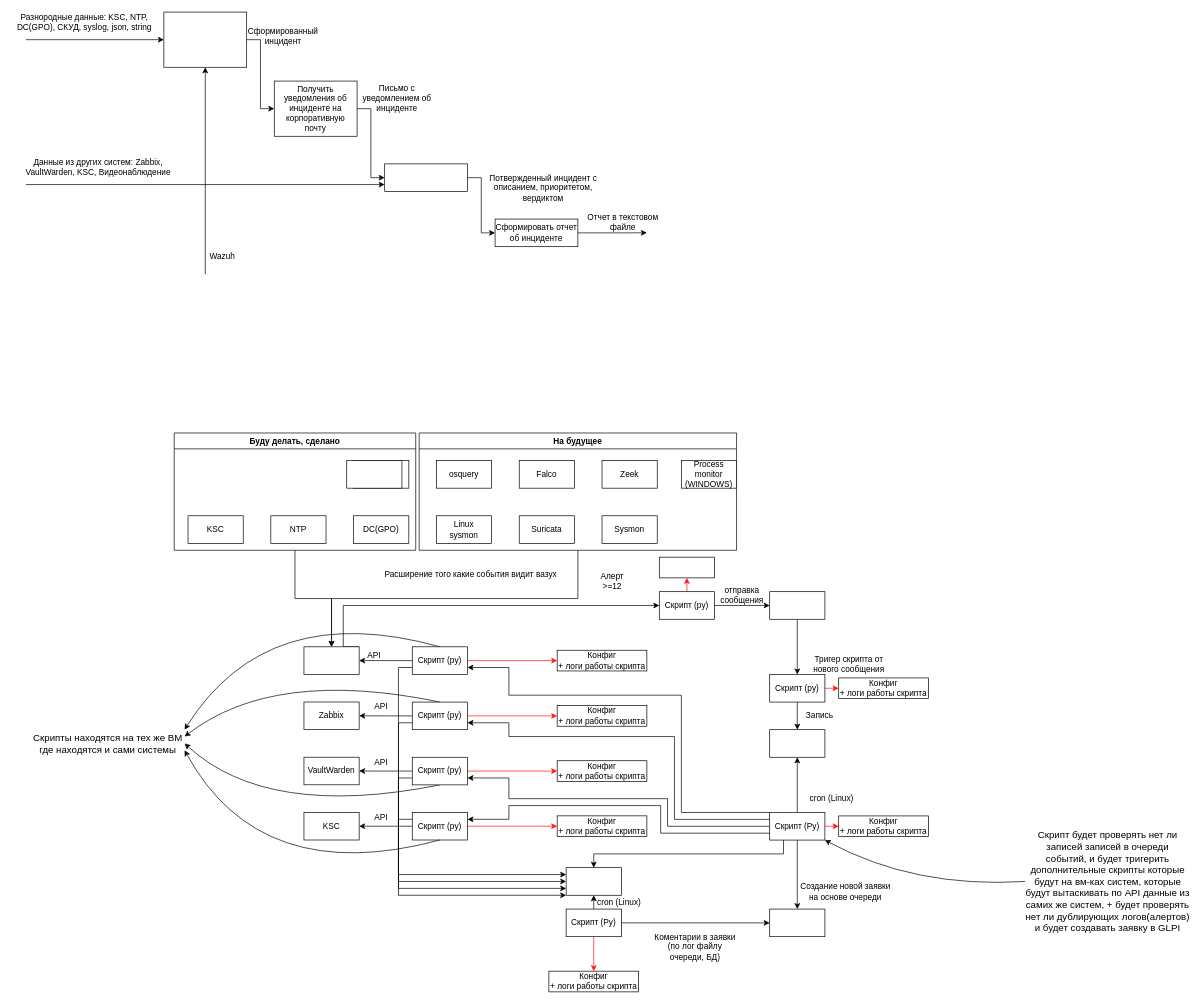
Some shapes in this 1202 by 1004 pixel diagram are drawn without their labels. The shapes that lost their labels are listed below. From the top down, each one's centre as x and y in pixels, then its label:
the point at 205,39: Сбор и анализ разнородных данных
the point at 425,177: Выполнить ручной разбор инцидента
the point at 374,474: СКУД
the point at 686,567: Конфиг
the point at 797,605: MatterMost
the point at 331,660: Wazuh кластер
the point at 797,743: Лог файл (очередь событий)
the point at 593,881: Лог файл (очередь событий, БД)
the point at 797,922: GLPI (инциденты)
